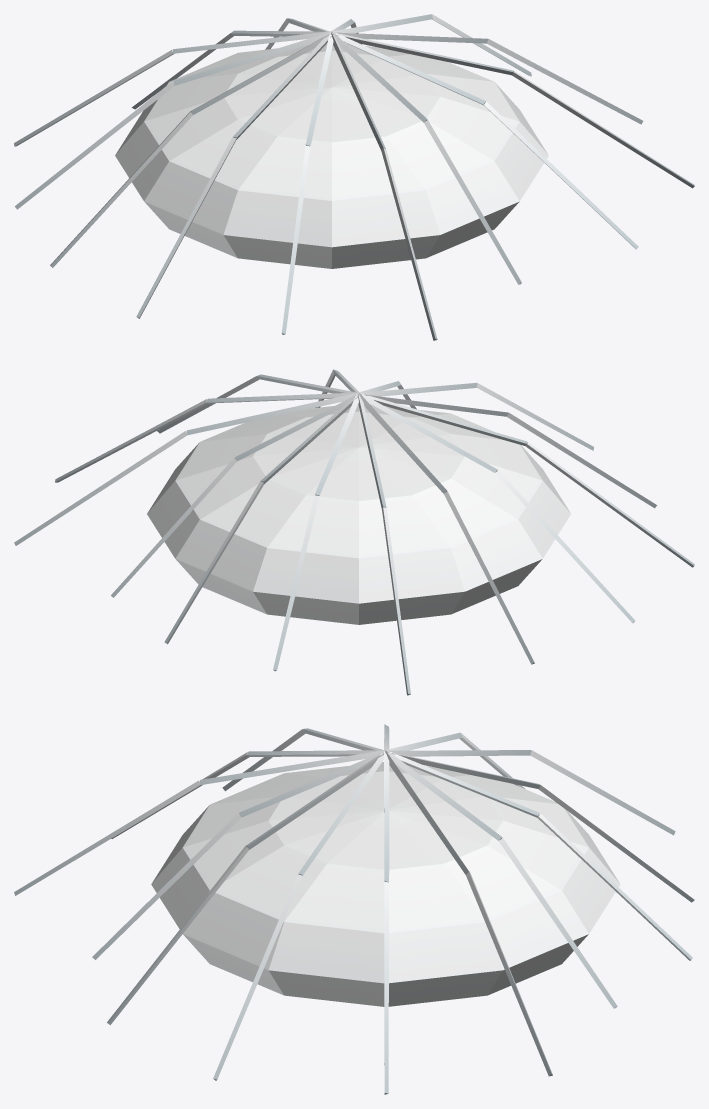
The model's file is web_mound.glb.
3 views of the same model, one above another, from view 1: azimuth 30°, elevation 25°; view 2: azimuth 150°, elevation 25°; view 3: azimuth 270°, elevation 25° (orthographic). The views are drawn at different scales.
Parts seen in each view (by area): view 1: web_mound; view 2: web_mound; view 3: web_mound.
Part boxes in pixels (bbox=[...]): web_mound: bbox=[14, 14, 694, 340]; web_mound: bbox=[14, 369, 694, 695]; web_mound: bbox=[14, 724, 694, 1094].
Size of the model in its own units: 4.1 by 1.27 by 3.77.
Materials: 1 (1 with a texture image).
